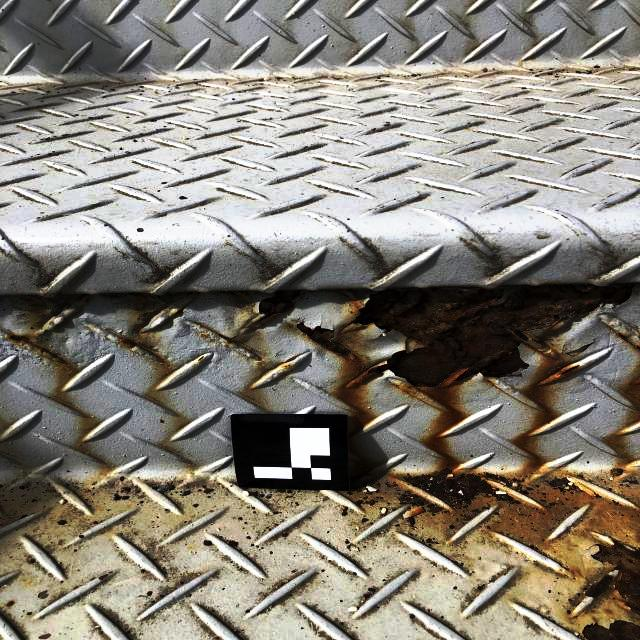Corrosion: (342, 283, 640, 389), (575, 535, 640, 640), (527, 360, 582, 409), (302, 322, 367, 363), (252, 291, 308, 329), (5, 330, 67, 360), (119, 338, 139, 349)
